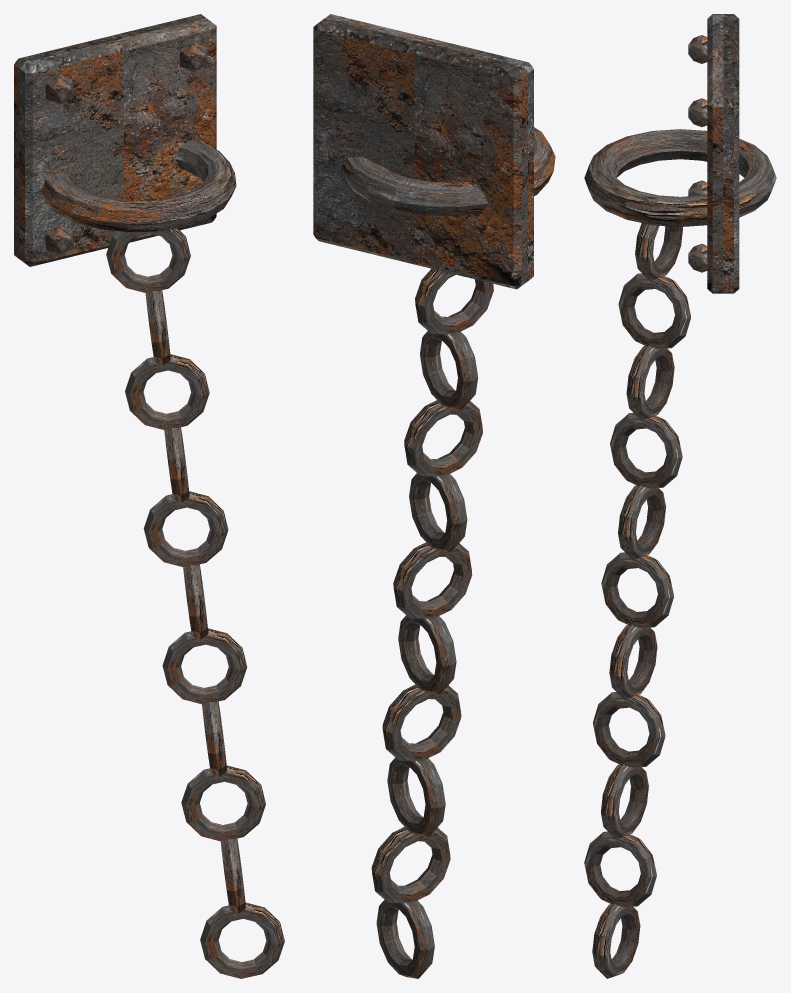
Rendered from chain-ring-v01.glb.
3 renders of one model, left to right at view 1: azimuth 30°, elevation 25°; view 2: azimuth 150°, elevation 25°; view 3: azimuth 270°, elevation 25°, orthographic. The views are drawn at different scales.
Parts seen in each view (by area): view 1: chain-ring; view 2: chain-ring; view 3: chain-ring.
Part boxes in pixels (x1,y1,x2,y2): chain-ring: (14,14,284,978); chain-ring: (313,14,555,978); chain-ring: (584,14,776,978).
Bounding box in the file's own units: 0.4177 × 1.83 × 0.36.
Materials: 2 (2 with a texture image).
